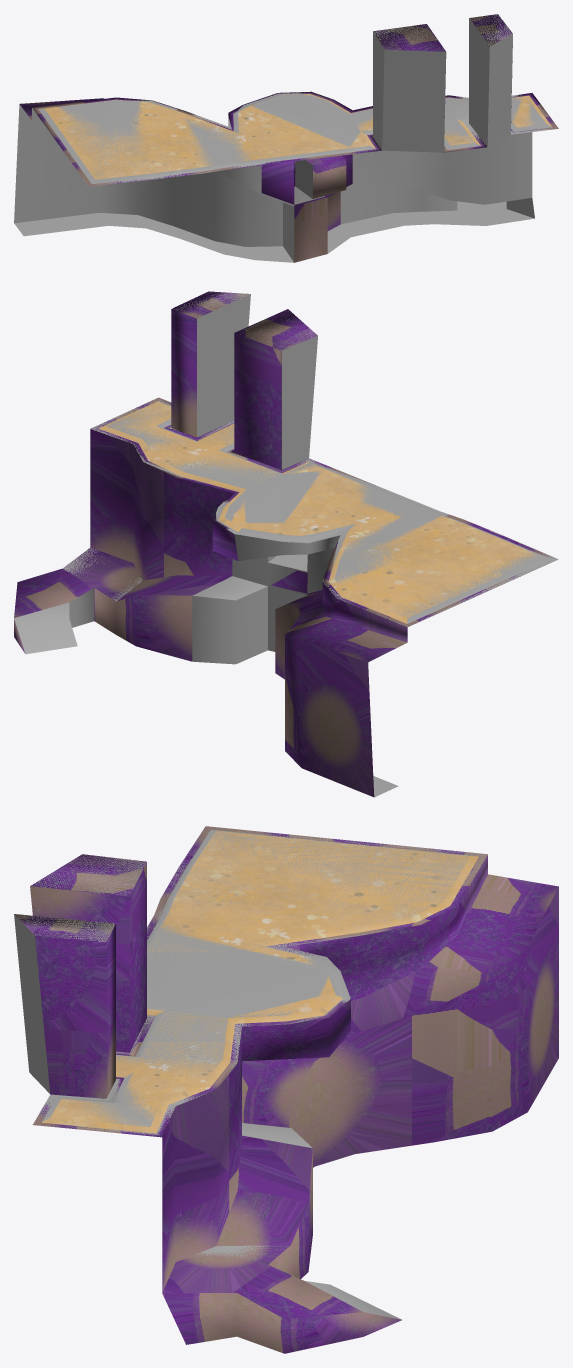
File: underwater mesh 2.fbx
The picture shows the model from 3 angles, top to bottom: view 1: azimuth 30°, elevation 25°; view 2: azimuth 150°, elevation 25°; view 3: azimuth 270°, elevation 25°; orthographic projection. The views are drawn at different scales.
Parts seen in each view (by area): view 1: pCube75, pCube74; view 2: pCube74, pCube75; view 3: pCube74, pCube75.
Part boxes in pixels (x1,y1,x2,y2): pCube75: [14, 14, 555, 262]; pCube74: [20, 14, 558, 262]; pCube74: [14, 291, 551, 797]; pCube75: [14, 292, 558, 797]; pCube74: [14, 826, 558, 1353]; pCube75: [14, 827, 487, 1319].
Bounding box in the file's own units: 0.7402 × 0.3749 × 0.5198.
